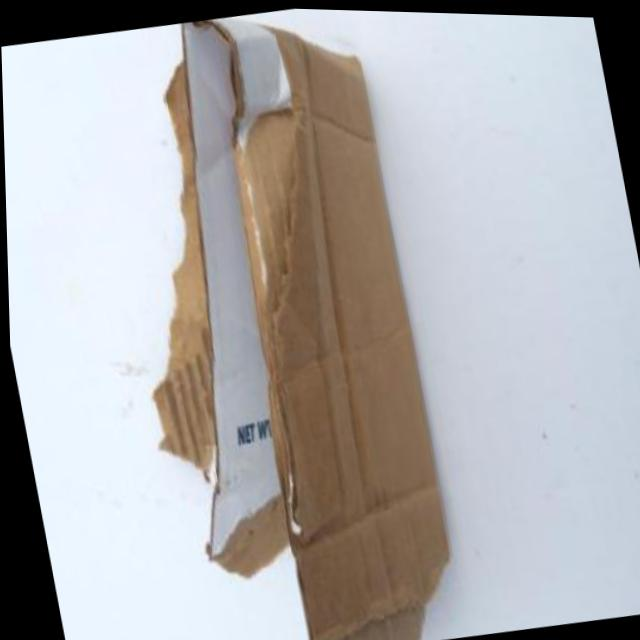box: (69, 2, 521, 640)
